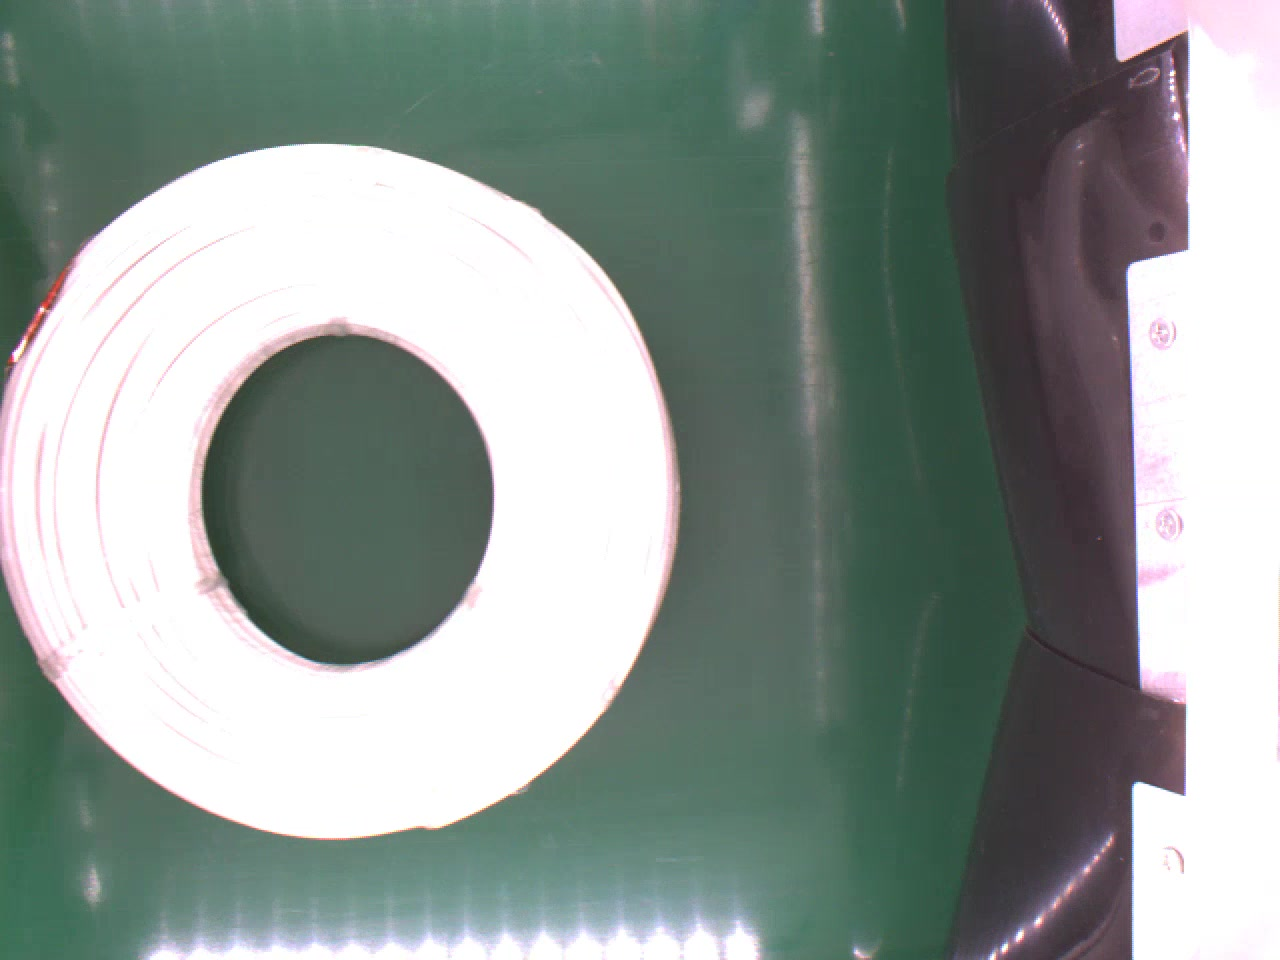white: (0, 136, 685, 843)
